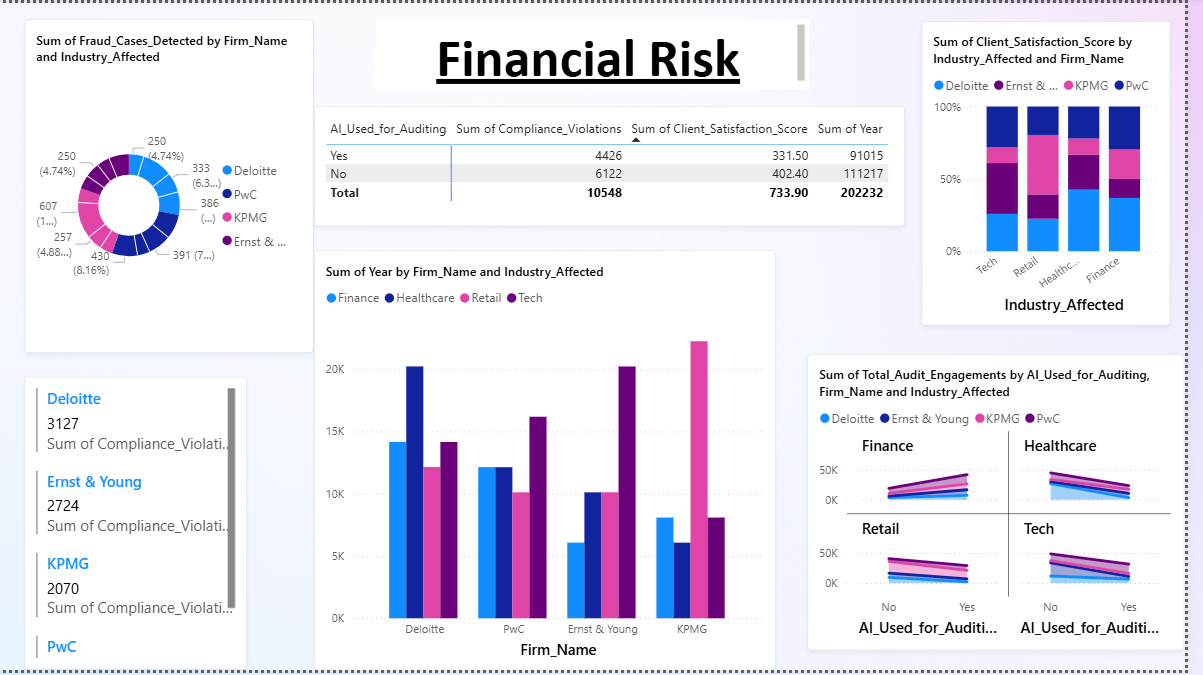

Layout of this report page (visuals, bound fields, positions):
{"tool":"powerbi","page":{"name":"Page 1","canvas":[1280,720],"ordinal":0},"visuals":[{"type":"donutChart","fields":{"Category":["big4_financial_risk_compliance.Firm_Name"],"Y":["Sum(big4_financial_risk_compliance.Fraud_Cases_Detected)"],"Series":["big4_financial_risk_compliance.Industry_Affected"]},"box":[28,18,312,360],"z":0},{"type":"stackedAreaChart","fields":{"Category":["big4_financial_risk_compliance.AI_Used_for_Auditing"],"Y":["Sum(big4_financial_risk_compliance.Total_Audit_Engagements)"],"Series":["big4_financial_risk_compliance.Firm_Name"],"Rows":["big4_financial_risk_compliance.Industry_Affected"]},"box":[873.3,378.3,406.7,320],"z":1},{"type":"lineClusteredColumnComboChart","fields":{"Category":["big4_financial_risk_compliance.Firm_Name"],"Y":["Sum(big4_financial_risk_compliance.Year)"],"Series":["big4_financial_risk_compliance.Industry_Affected"]},"box":[340,266.7,498.3,453.3],"z":2},{"type":"pivotTable","fields":{"Values":["Sum(big4_financial_risk_compliance.Compliance_Violations)","Sum(big4_financial_risk_compliance.Client_Satisfaction_Score)","Sum(big4_financial_risk_compliance.Year)"],"Rows":["big4_financial_risk_compliance.AI_Used_for_Auditing"]},"box":[340,142,638,114],"z":4},{"type":"multiRowCard","fields":{"Values":["big4_financial_risk_compliance.Firm_Name","Sum(big4_financial_risk_compliance.Compliance_Violations)"]},"box":[28.3,403.3,240,316.7],"z":5},{"type":"hundredPercentStackedColumnChart","fields":{"Y":["Sum(big4_financial_risk_compliance.Client_Satisfaction_Score)"],"Category":["big4_financial_risk_compliance.Industry_Affected"],"Series":["big4_financial_risk_compliance.Firm_Name"]},"box":[995.9,18.9,268.3,328.8],"z":6},{"type":"textbox","box":[406,18,468,76],"z":7}]}

Visuals, with their boxes in screenshot pixels (x1, y1, x2, y2), scaled from the page's 1280x720 canvas onto the 1203x675 screenshot:
donutChart - big4_financial_risk_compliance.Firm_Name x Sum(big4_financial_risk_compliance.Fraud_Cases_Detected): Rect(26, 17, 320, 354)
stackedAreaChart - big4_financial_risk_compliance.AI_Used_for_Auditing x Sum(big4_financial_risk_compliance.Total_Audit_Engagements): Rect(821, 355, 1202, 655)
lineClusteredColumnComboChart - big4_financial_risk_compliance.Firm_Name x Sum(big4_financial_risk_compliance.Year): Rect(320, 250, 788, 674)
pivotTable - Sum(big4_financial_risk_compliance.Compliance_Violations) x Sum(big4_financial_risk_compliance.Client_Satisfaction_Score): Rect(320, 133, 919, 240)
multiRowCard - big4_financial_risk_compliance.Firm_Name x Sum(big4_financial_risk_compliance.Compliance_Violations): Rect(27, 378, 252, 674)
hundredPercentStackedColumnChart - Sum(big4_financial_risk_compliance.Client_Satisfaction_Score) x big4_financial_risk_compliance.Industry_Affected: Rect(936, 18, 1188, 326)
textbox: Rect(382, 17, 821, 88)
